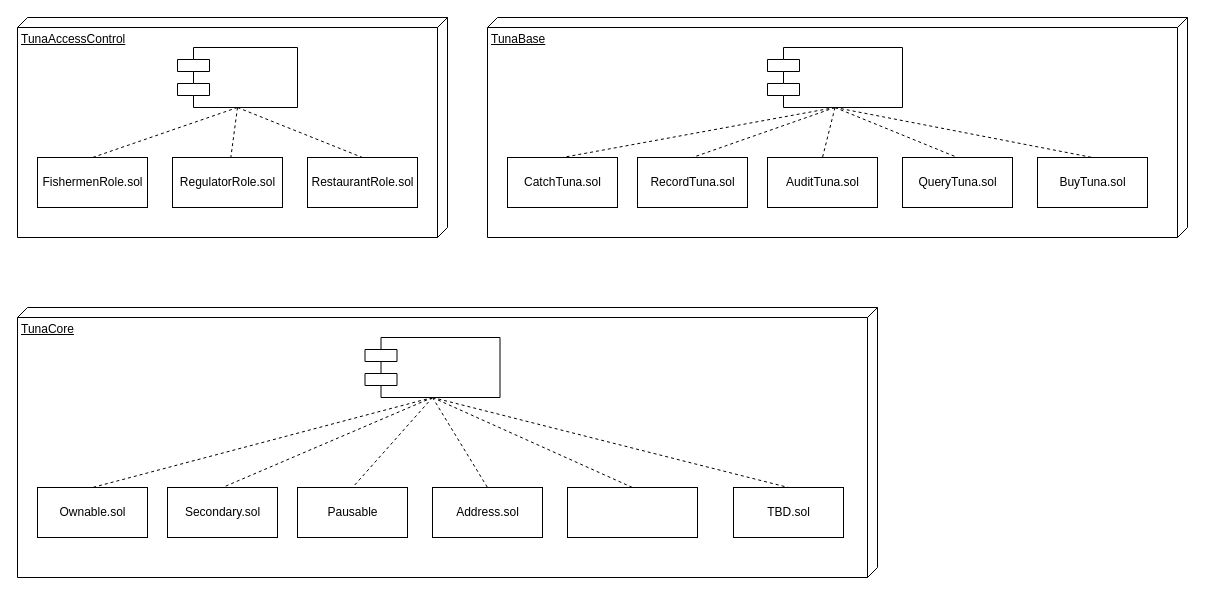
The diagram is 1205 pixels wide and 595 high, and some of its shapes have lost their labels. Each missing label, with the centre of its shape:
ReentrancyGuard.sol: point 632,512
Roles.sol: point 237,77
SupplyChain.sol: point 834,77
ValueChain.sol: point 432,367
